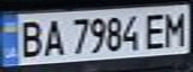4: (121, 11, 145, 52)
7: (66, 15, 90, 55)
8: (103, 14, 127, 53)
9: (87, 15, 109, 54)
A: (39, 16, 66, 57)
B: (15, 17, 48, 59)
E: (142, 10, 172, 51)
M: (160, 8, 190, 47)
